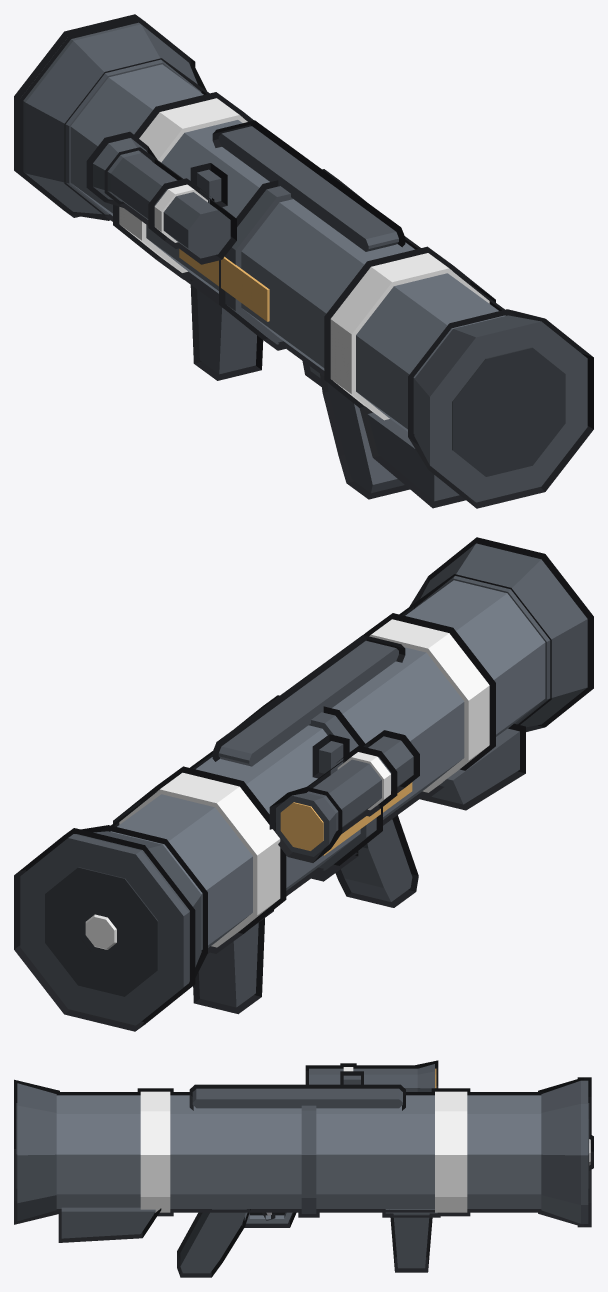
Rendered from ROCKET.gltf.
3 views of the same model, one above another, from view 1: azimuth 30°, elevation 25°; view 2: azimuth 150°, elevation 25°; view 3: azimuth 270°, elevation 25° (orthographic). The views are drawn at different scales.
Visible parts, largest first — view 1: ROCKET; view 2: ROCKET, anim_round; view 3: ROCKET.
Part boxes in pixels (<box>): ROCKET: <box>14,14,593,508</box>; ROCKET: <box>14,537,593,1031</box>; anim_round: <box>80,914,116,952</box>; ROCKET: <box>14,1060,591,1277</box>.
Bounding box in the file's own units: 0.1363 × 0.1608 × 0.4692.
